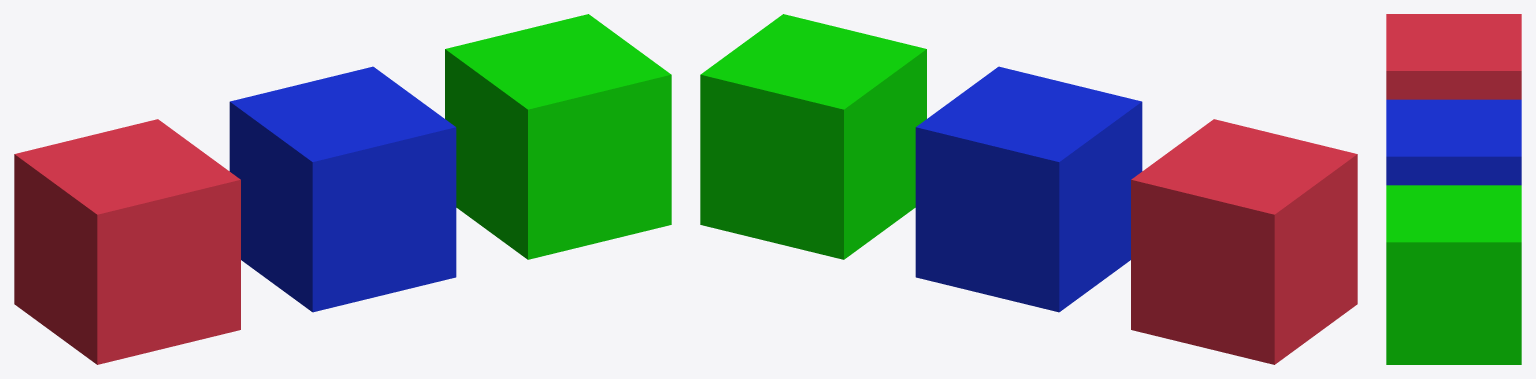
The picture shows the model from 3 angles, left to right: view 1: azimuth 30°, elevation 25°; view 2: azimuth 150°, elevation 25°; view 3: azimuth 270°, elevation 25°; orthographic projection. The views are drawn at different scales.
Visible parts, largest first — view 1: CubeRed, CubeBlue, CubeGreen; view 2: CubeRed, CubeBlue, CubeGreen; view 3: CubeGreen, CubeBlue, CubeRed.
Part boxes in pixels (x1,y1,x2,y2): CubeRed: (14, 119, 240, 364); CubeBlue: (229, 66, 456, 312); CubeGreen: (445, 14, 671, 259); CubeRed: (1131, 119, 1357, 364); CubeBlue: (915, 66, 1142, 312); CubeGreen: (700, 14, 926, 259); CubeGreen: (1386, 185, 1521, 364); CubeBlue: (1386, 99, 1521, 185); CubeRed: (1386, 14, 1521, 99).
Size of the model in its own units: 4 by 1 by 1.
